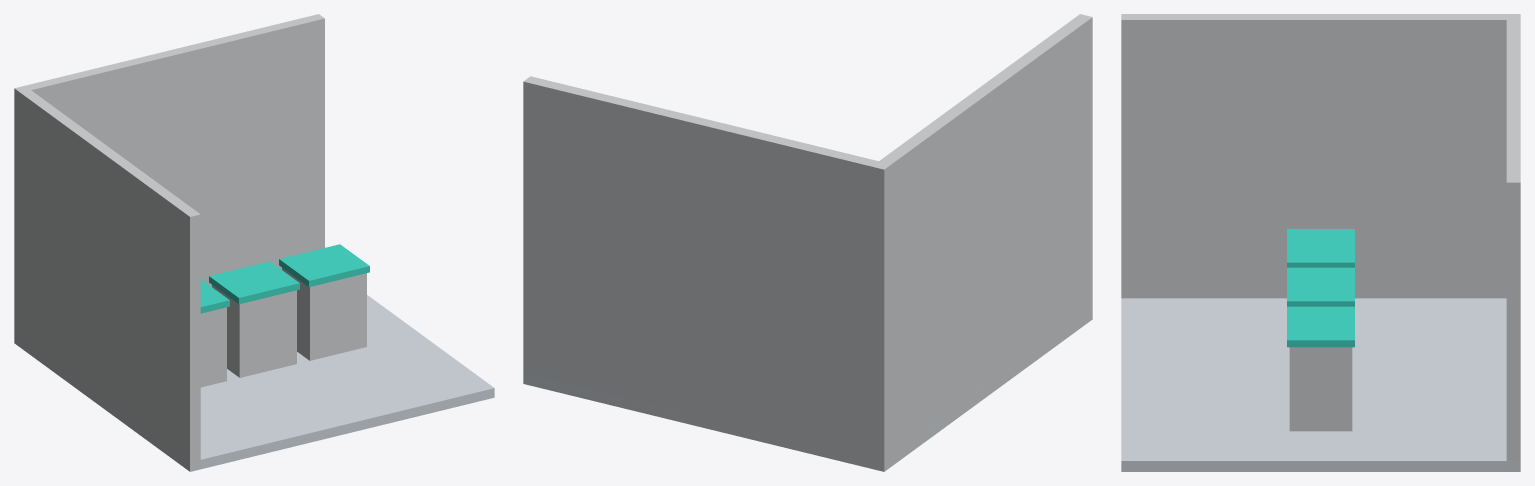
3 views of the same model, side by side, from view 1: azimuth 30°, elevation 25°; view 2: azimuth 150°, elevation 25°; view 3: azimuth 270°, elevation 25° (orthographic). The views are drawn at different scales.
Parts seen in each view (by area): view 1: Exhibition Booth Concept; view 2: Exhibition Booth Concept; view 3: Exhibition Booth Concept.
Part boxes in pixels (box(x1,y1,x2,y2)): Exhibition Booth Concept: box(14, 14, 494, 471); Exhibition Booth Concept: box(523, 14, 1092, 471); Exhibition Booth Concept: box(1121, 14, 1520, 471).
Size of the model in its own units: 4 by 3.2 by 4.
